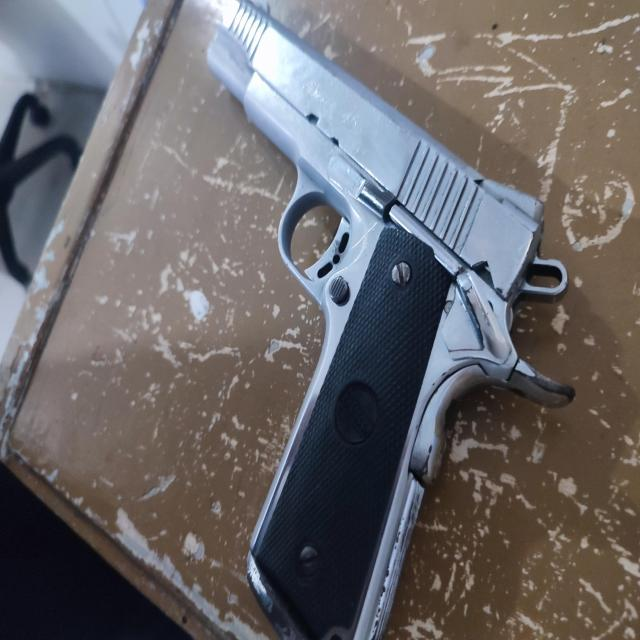pistol: (205, 0, 575, 640)
